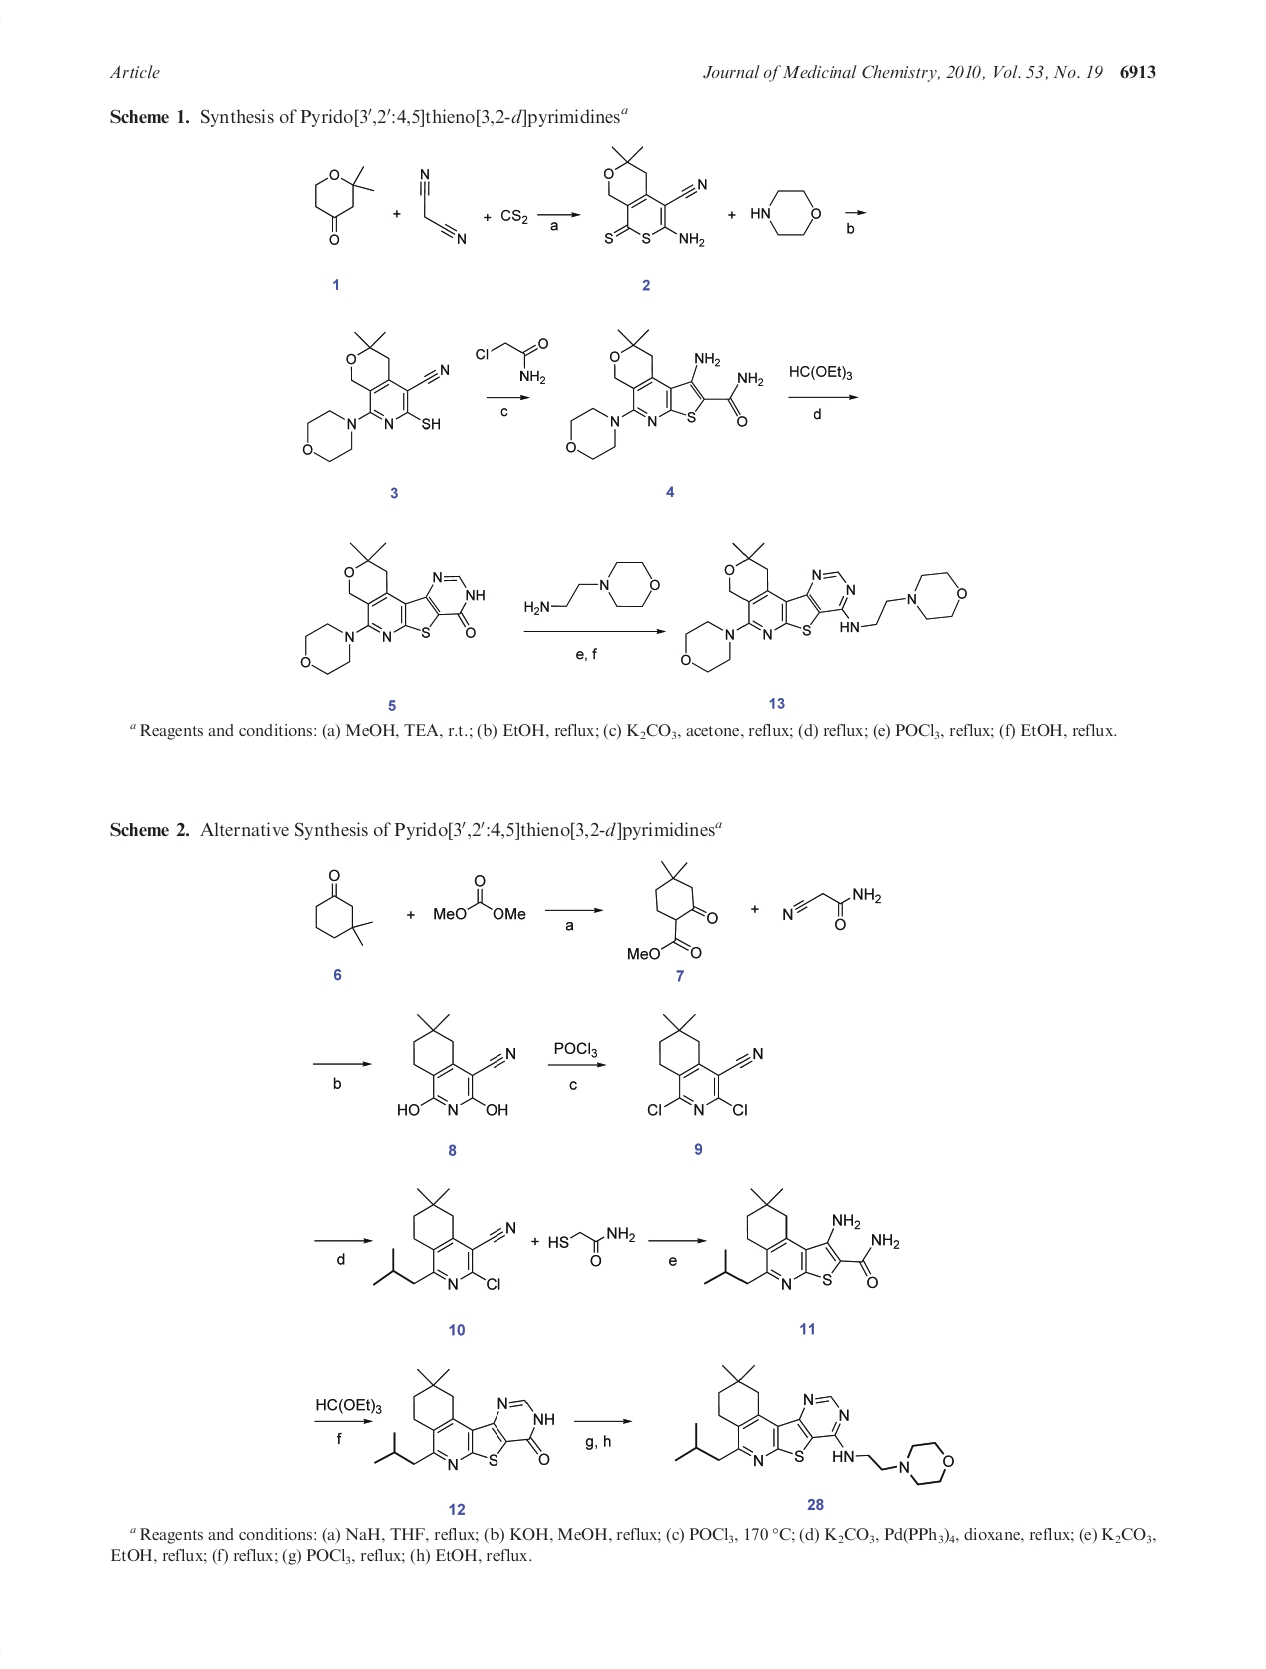exist_molecular: (680, 539, 972, 676), (672, 1360, 955, 1488), (565, 326, 766, 463), (299, 535, 487, 676), (702, 1186, 900, 1291), (301, 327, 452, 464), (372, 1364, 556, 1472), (368, 1188, 519, 1293), (394, 1009, 517, 1118), (645, 1011, 765, 1121), (602, 144, 707, 250), (626, 859, 721, 963), (521, 557, 662, 617), (313, 161, 376, 247), (430, 872, 528, 924), (781, 883, 884, 932), (313, 868, 375, 947), (415, 168, 469, 249), (475, 332, 556, 384), (547, 1223, 637, 1267), (747, 188, 823, 238)
